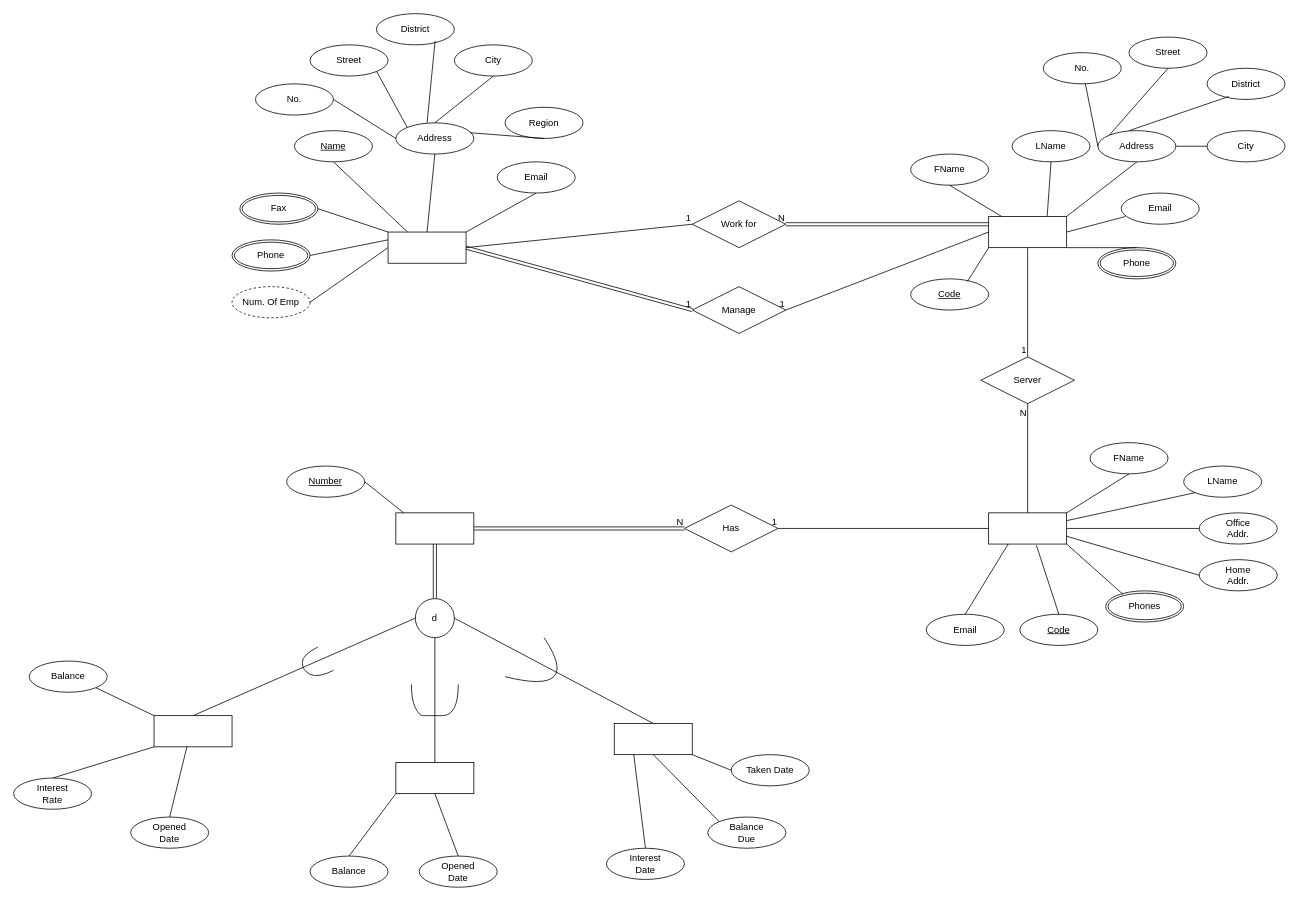
Image size: 1299x901. Some labels were removed from this diagram. The shapes that lost their labels are listed below. From the top down, each one's box as (x1, y1, x2, y2) in pixels, then its label:
(387, 231, 466, 263): Branch
(988, 216, 1067, 248): Employee
(395, 512, 474, 544): Account
(988, 512, 1067, 544): Customer
(153, 715, 232, 747): Saving Account
(613, 723, 692, 755): Loan
(395, 762, 474, 794): Checking Account
